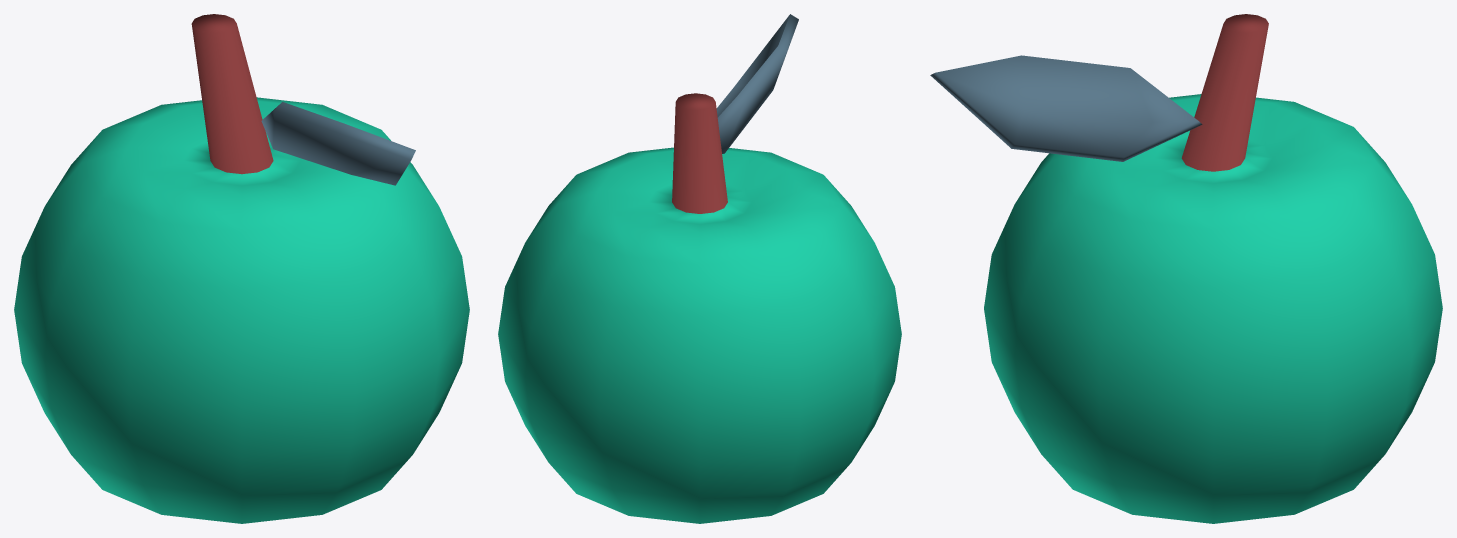
File: apple_green.fbx
The picture shows the model from 3 angles, left to right: view 1: azimuth 30°, elevation 25°; view 2: azimuth 150°, elevation 25°; view 3: azimuth 270°, elevation 25°; orthographic projection. The views are drawn at different scales.
Visible parts, largest first — view 1: 球体.005, 球体.006; view 2: 球体.005, 球体.006; view 3: 球体.005, 球体.006.
Part boxes in pixels (x1,y1,x2,y2): 球体.005: (14,14,469,523); 球体.006: (261,102,415,185); 球体.005: (498,93,901,523); 球体.006: (716,14,798,153); 球体.005: (984,14,1442,523); 球体.006: (930,55,1202,161).
Bounding box in the file's own units: 84 × 90.05 × 93.84.
